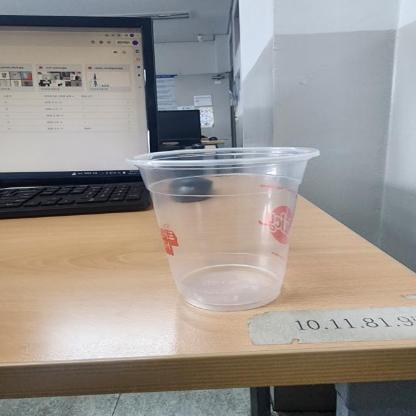Plastic Cup: (126, 144, 320, 312)
